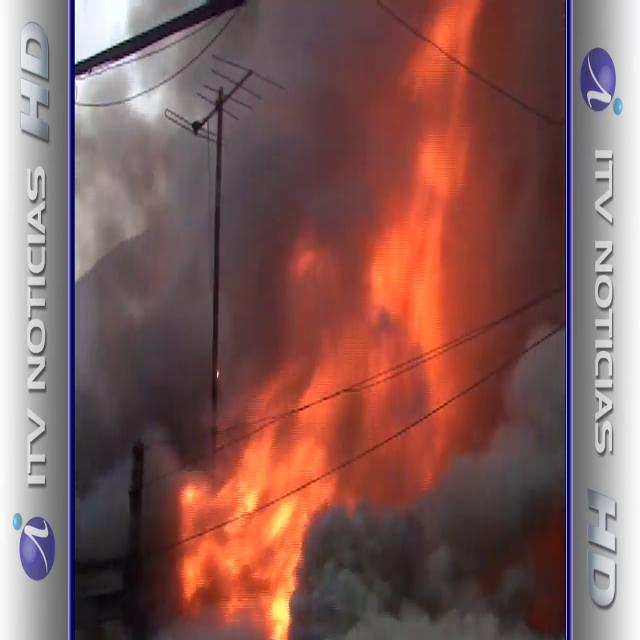Fire: (172, 347, 370, 632)
Smoke: (75, 1, 390, 409), (322, 424, 564, 634)
